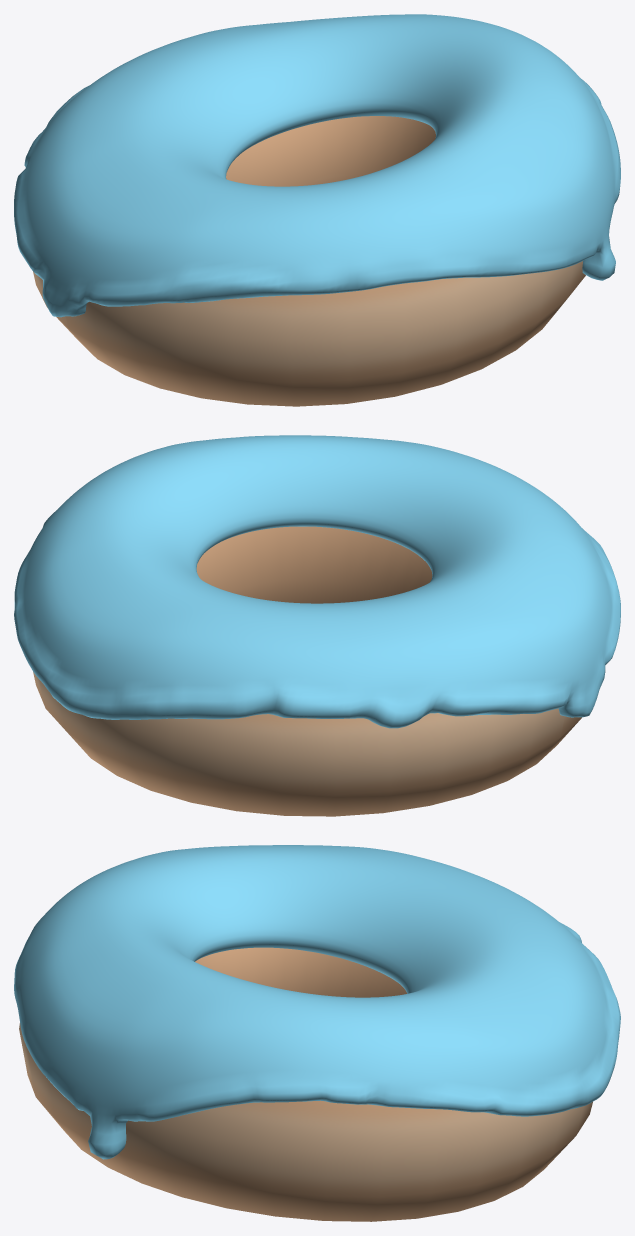
Rendered from DonutBlueWhite.glb.
3 views of the same model, one above another, from view 1: azimuth 30°, elevation 25°; view 2: azimuth 150°, elevation 25°; view 3: azimuth 270°, elevation 25° (orthographic). The views are drawn at different scales.
Parts seen in each view (by area): view 1: icing, donut; view 2: icing, donut; view 3: icing, donut.
Part boxes in pixels (x1,y1,x2,y2): icing: (14,14,620,317); donut: (33,116,585,406); icing: (14,435,620,728); donut: (33,526,581,816); icing: (14,845,620,1159); donut: (19,947,592,1221).
Bounding box in the file's own units: 0.1446 × 0.0599 × 0.1402.
2 materials, 1 textured.
